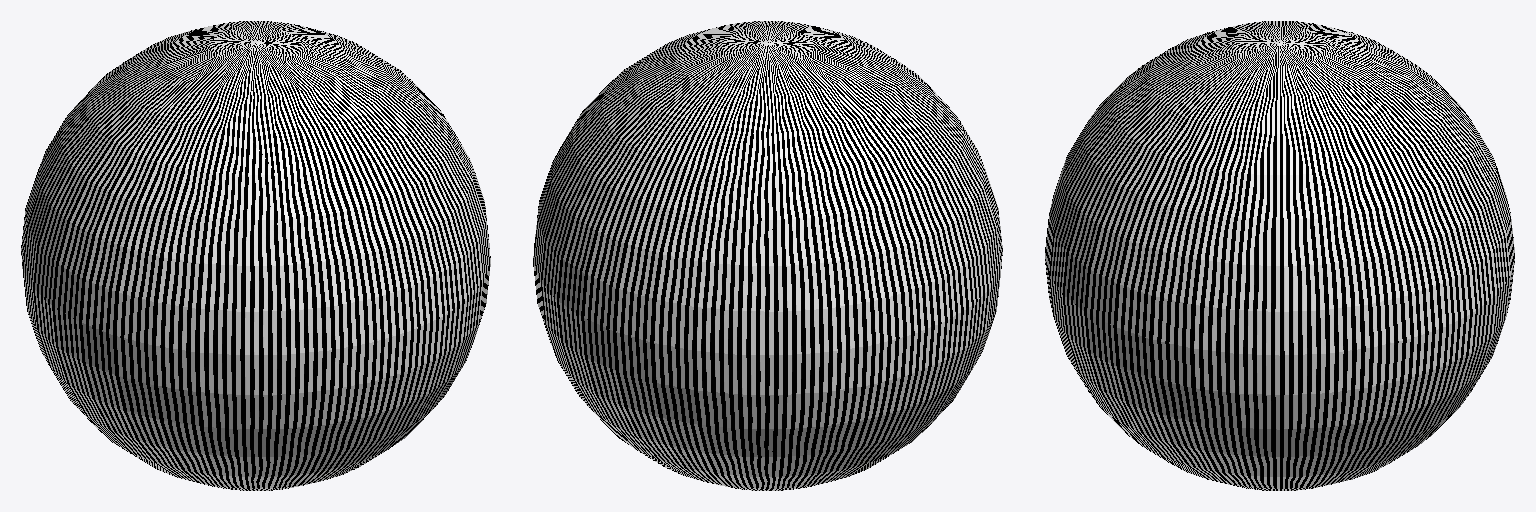
3 renders of one model, left to right at view 1: azimuth 30°, elevation 25°; view 2: azimuth 150°, elevation 25°; view 3: azimuth 270°, elevation 25°, orthographic.
Parts seen in each view (by area): view 1: Sphere; view 2: Sphere; view 3: Sphere.
Boxes of the visible parts, <box> form: Sphere: <box>21,21,490,490</box>; Sphere: <box>533,21,1002,490</box>; Sphere: <box>1045,21,1514,490</box>.
Bounding box in the file's own units: 1.32 × 1.32 × 1.32.
1 materials, 1 textured.